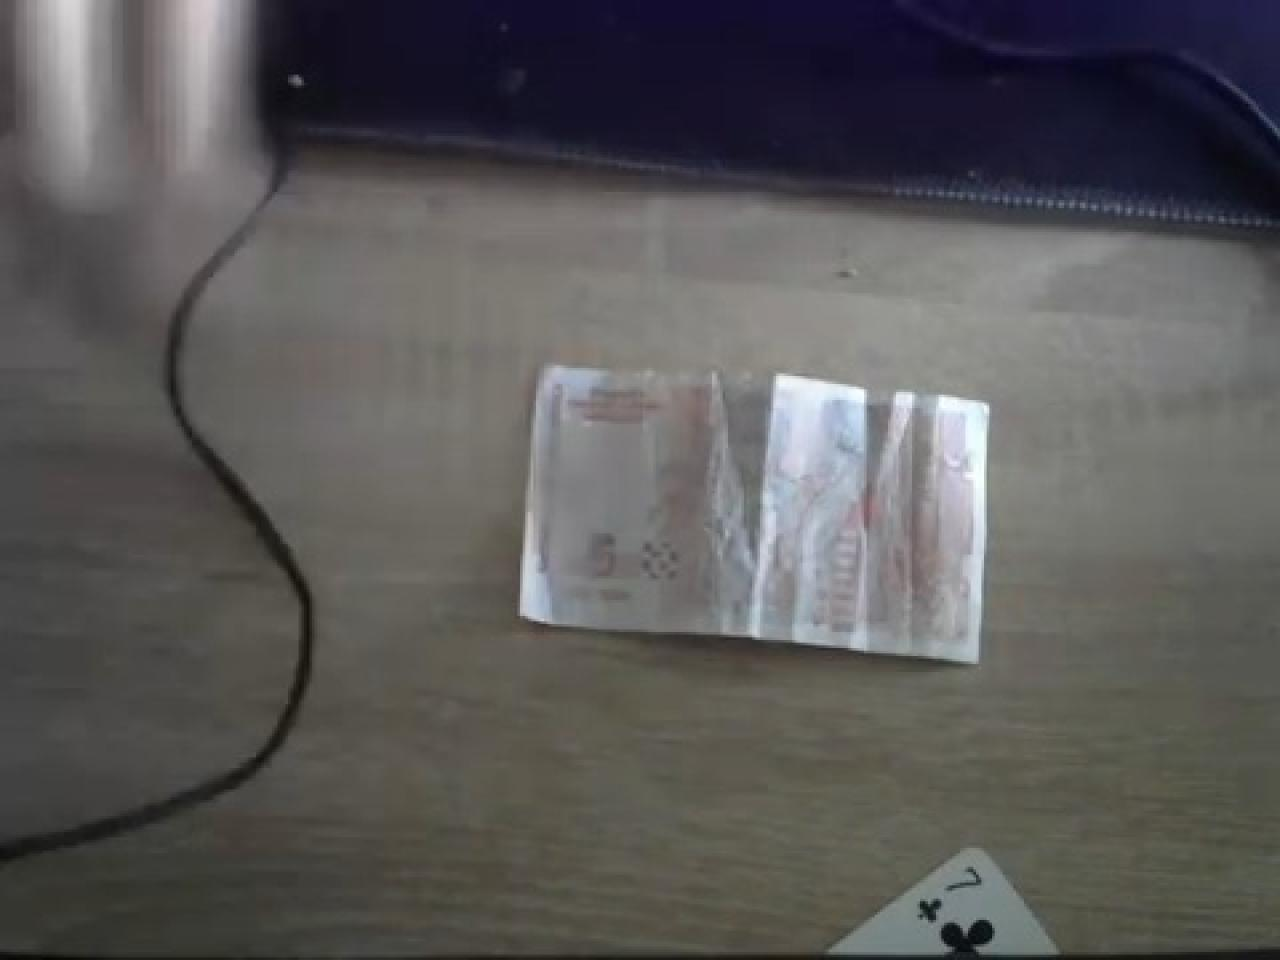5leva: (520, 365, 987, 667)
